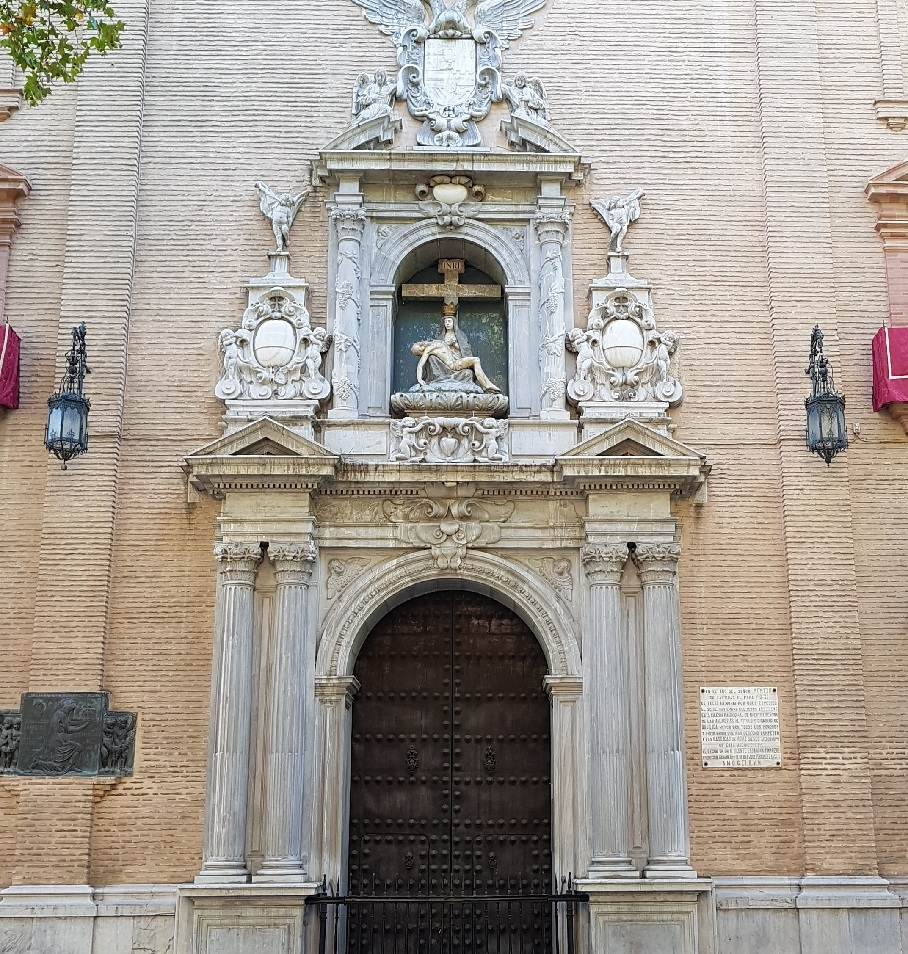arco-medio-punto: (336, 567, 566, 716), (386, 235, 516, 314)
fronton: (181, 415, 344, 474), (553, 419, 707, 478)
fronton-partido: (317, 115, 583, 178)
